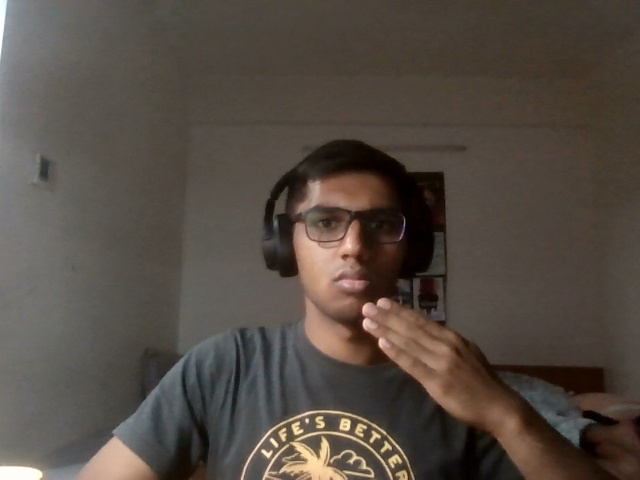thankyou: (359, 292, 512, 424)
